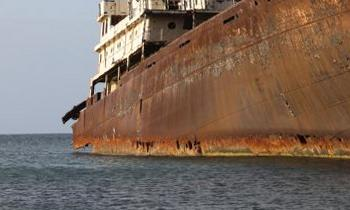rust: (246, 1, 348, 157), (72, 109, 243, 155), (160, 47, 247, 108), (109, 80, 158, 105), (181, 25, 242, 45)
